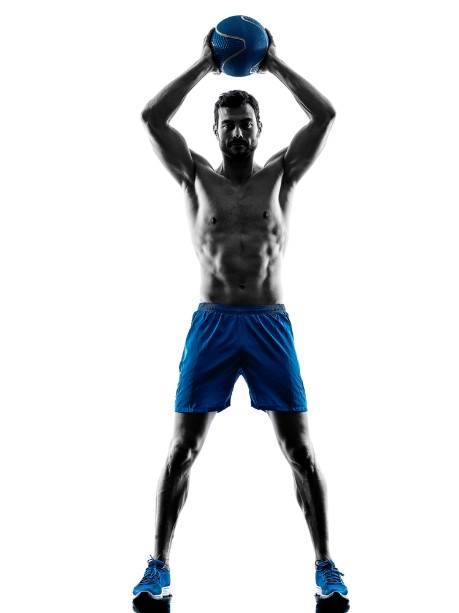blue ball: (209, 14, 272, 78)
